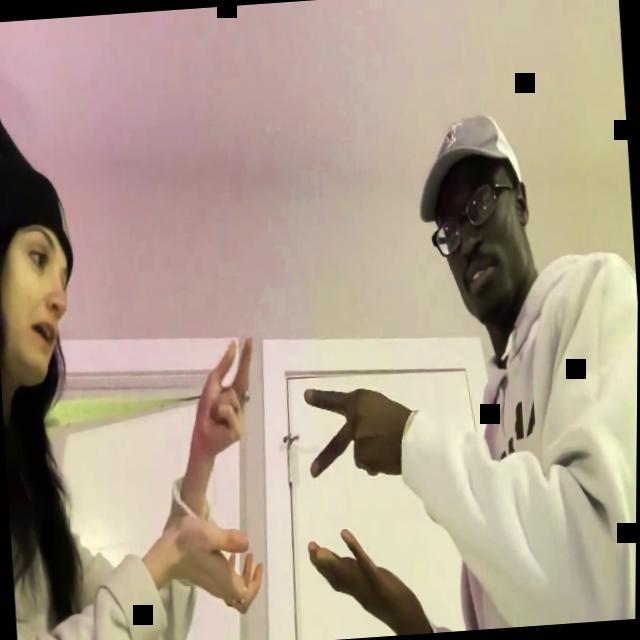Scissors: (299, 376, 416, 480), (191, 336, 259, 452)
